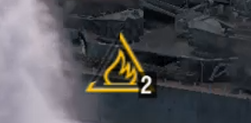2fire: (83, 54, 158, 100)
